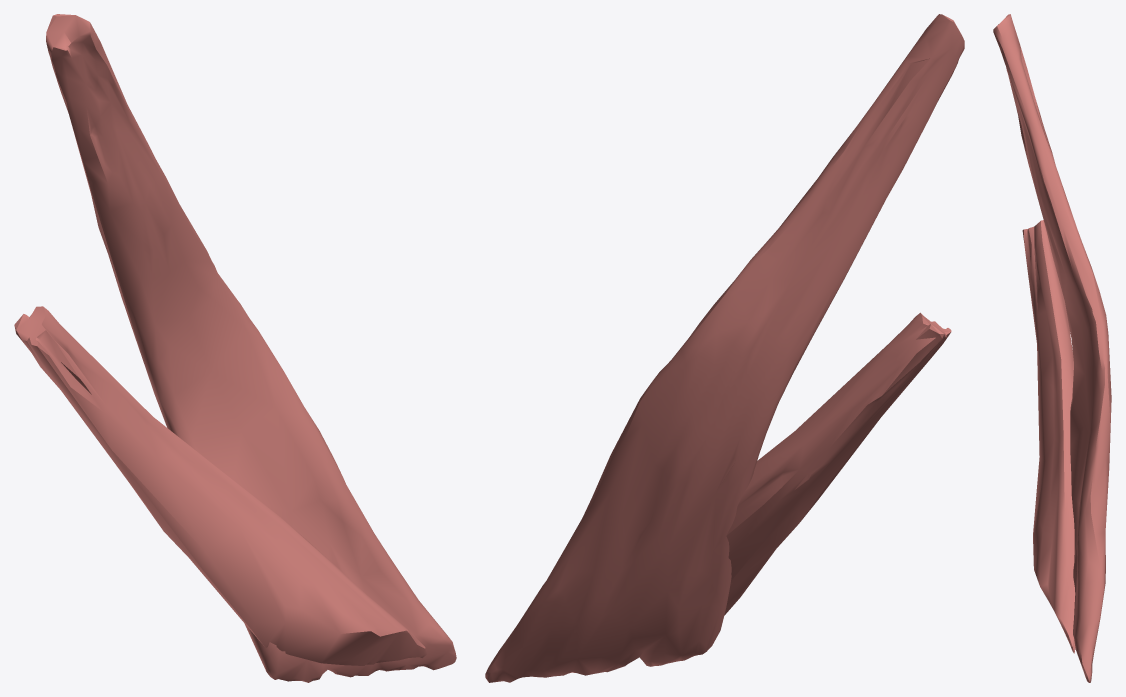
File: fma82379_mm4006.glb
3 renders of one model, left to right at view 1: azimuth 30°, elevation 25°; view 2: azimuth 150°, elevation 25°; view 3: azimuth 270°, elevation 25°, orthographic. The views are drawn at different scales.
Parts seen in each view (by area): view 1: FMA82379_MM4006; view 2: FMA82379_MM4006; view 3: FMA82379_MM4006.
Boxes of the visible parts, x1,y1,x2,y2 form: FMA82379_MM4006: [14, 14, 456, 682]; FMA82379_MM4006: [485, 14, 964, 682]; FMA82379_MM4006: [993, 14, 1111, 682].
Bounding box in the file's own units: 0.0428 × 0.0692 × 0.0142.
